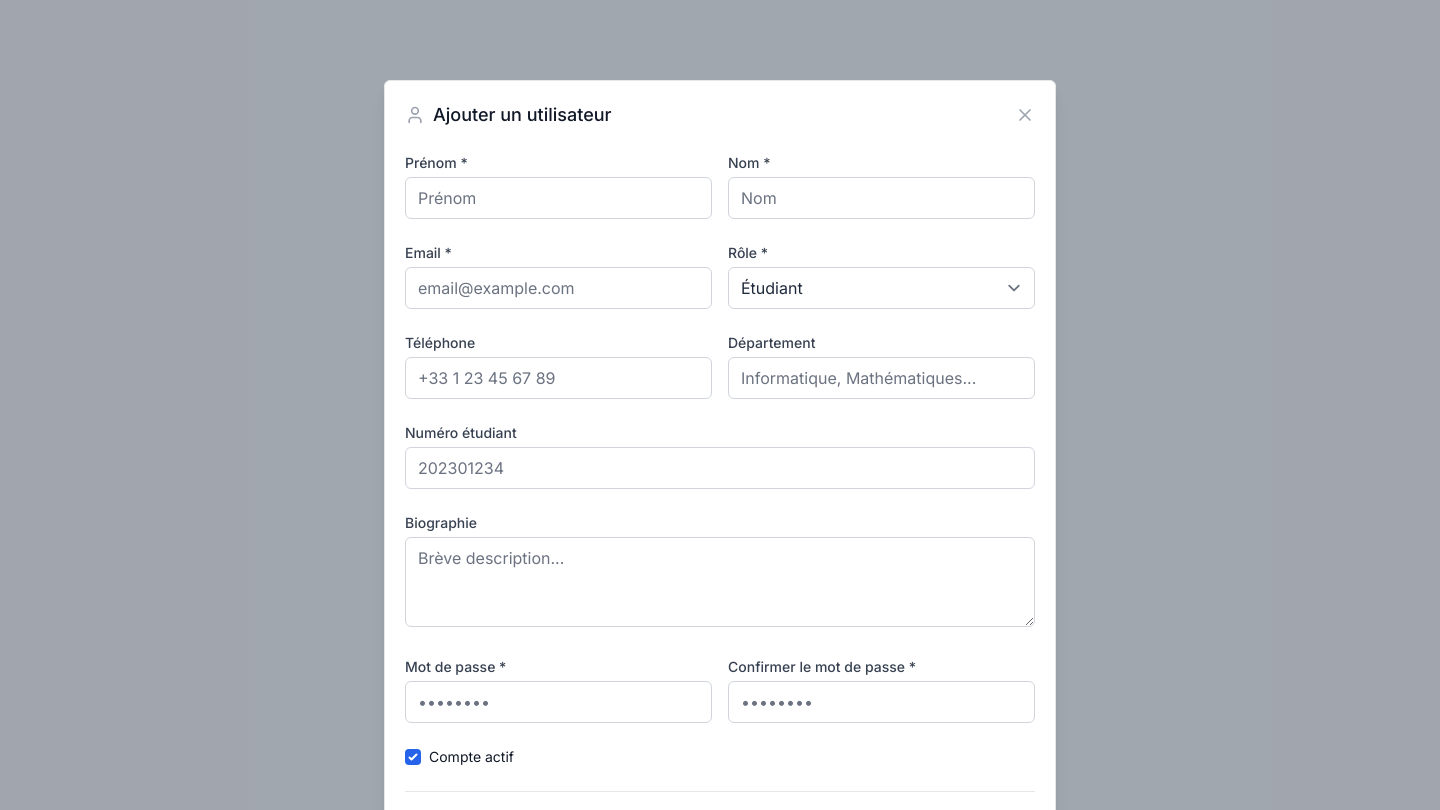
it: UserForm › form validation › should validate password length
Type "123" into the password field labelled "Mot de passe *" at (558, 702), box [405,681,712,723]
(page scrolled)
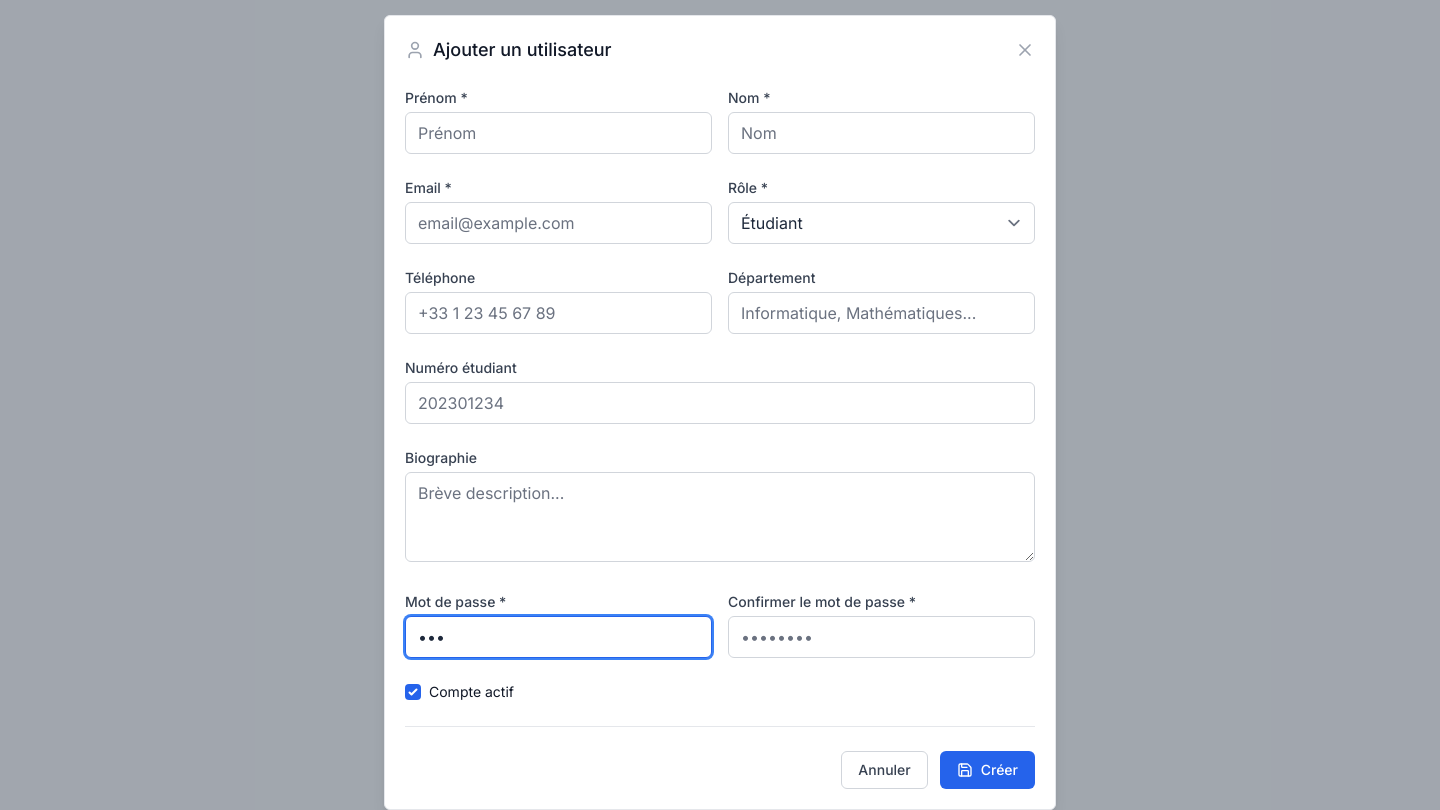
Click the button "Créer" at (987, 770), box [940,751,1035,789]
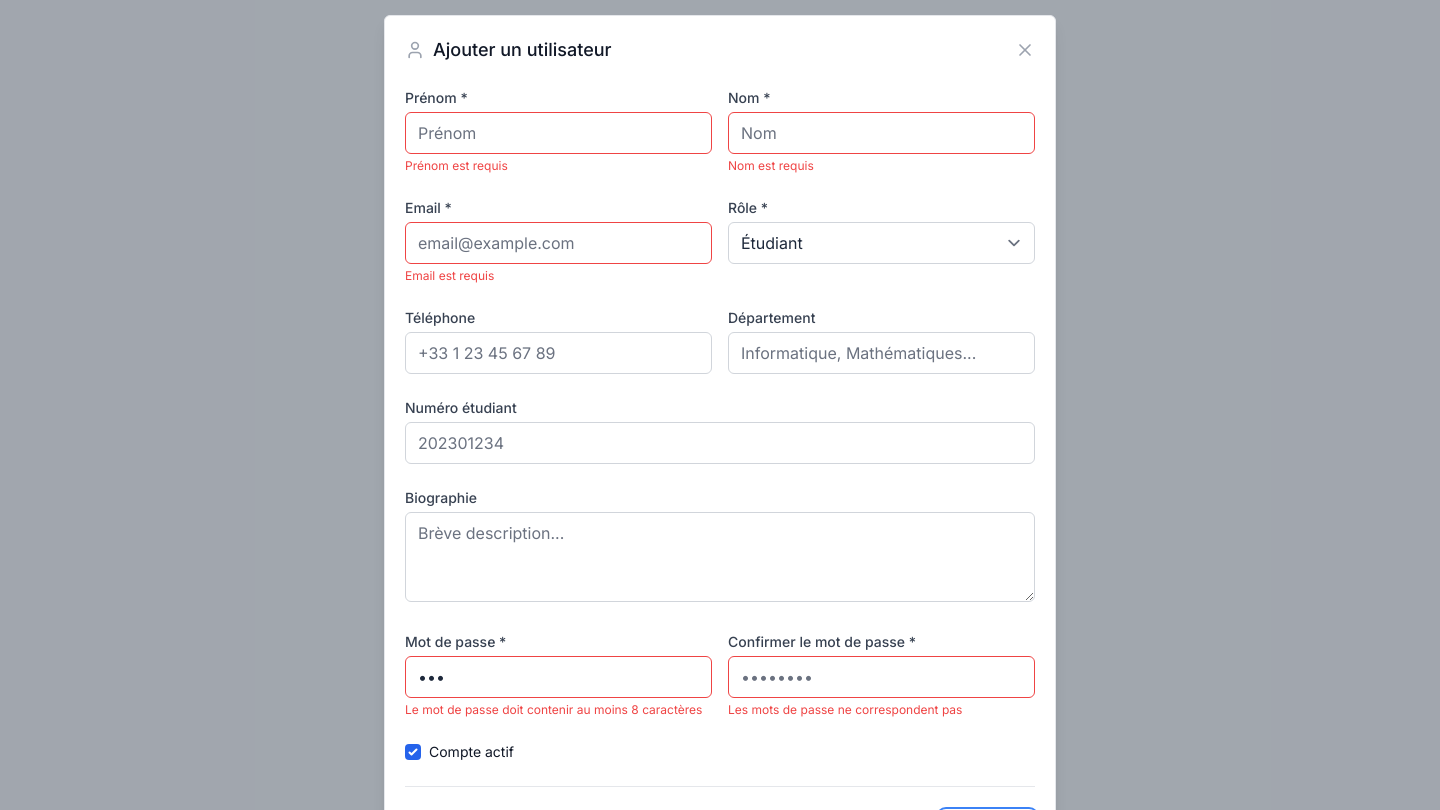
Check: the text "Le mot de passe doit contenir au moins 8 caractères" is shown, box [405,702,712,718]
